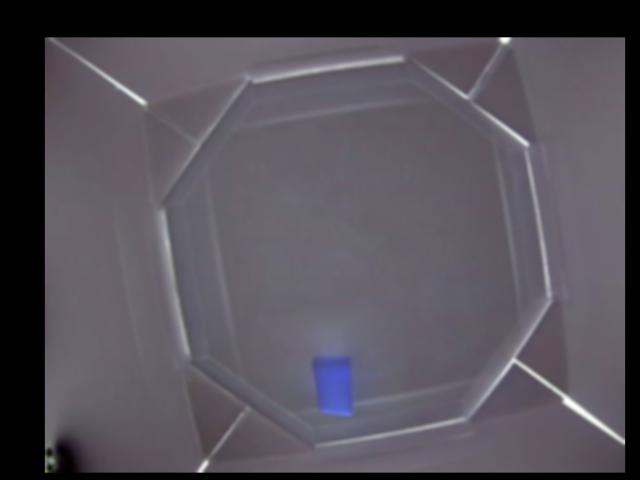Potato: (310, 355, 352, 415)
